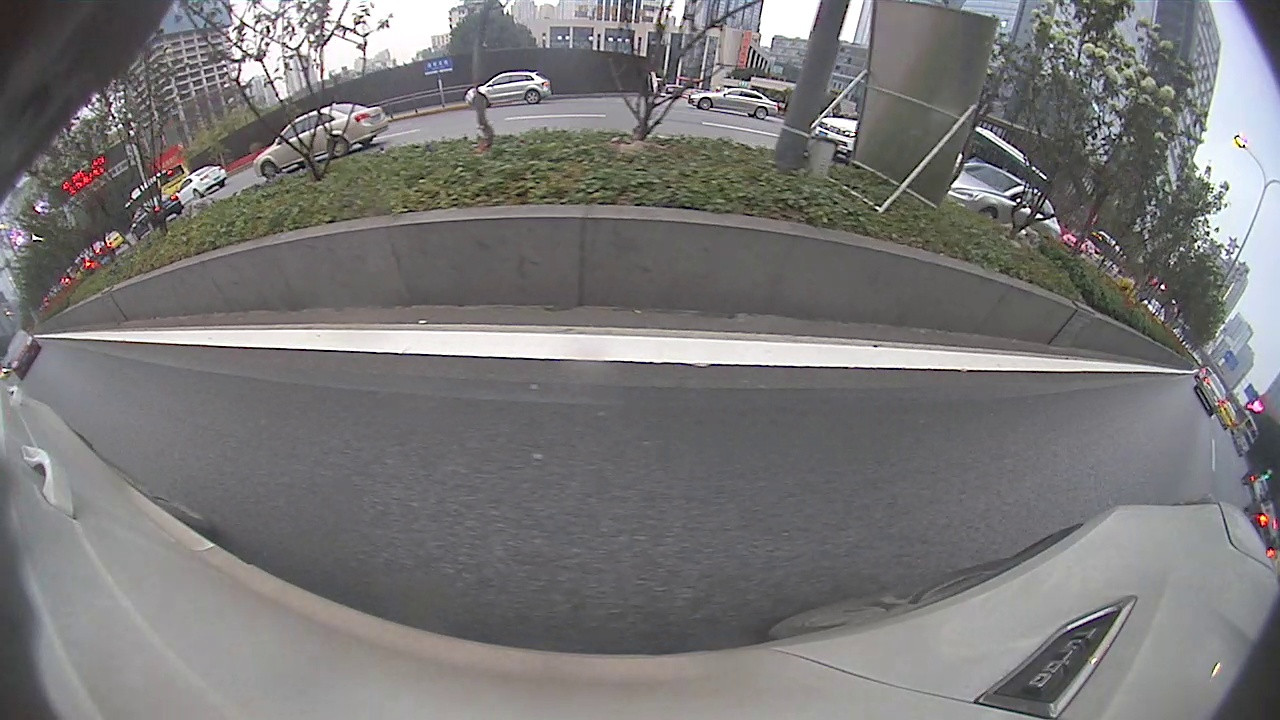car: (252, 100, 391, 182), (5, 326, 43, 384), (1194, 374, 1227, 417)
front: (261, 161, 279, 179), (699, 97, 713, 113)
rear: (326, 134, 350, 160), (525, 89, 542, 105), (754, 105, 769, 121)
